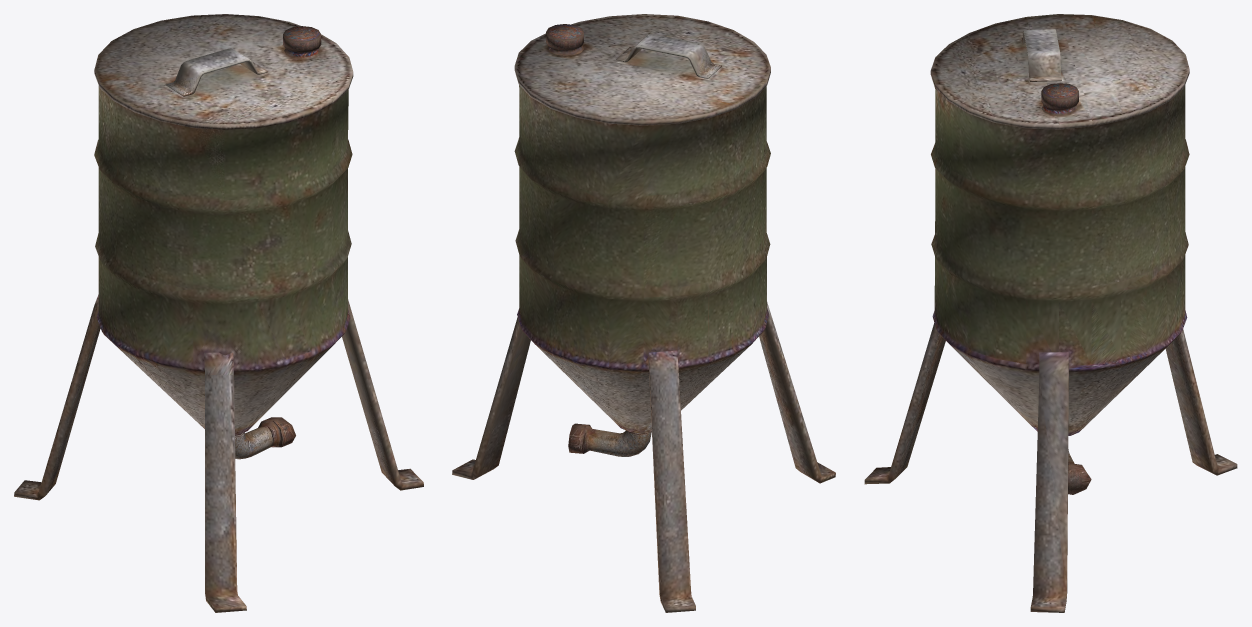
The model's file is tripo_convert_5ef5305a-ab51-4683-b265-a1bc2b4de111.fbx.
3 views of the same model, side by side, from view 1: azimuth 30°, elevation 25°; view 2: azimuth 150°, elevation 25°; view 3: azimuth 270°, elevation 25° (orthographic).
Parts seen in each view (by area): view 1: tripo_node_5ef5305a; view 2: tripo_node_5ef5305a; view 3: tripo_node_5ef5305a.
Part boxes in pixels (bbox=[...]): tripo_node_5ef5305a: bbox=[14, 14, 423, 612]; tripo_node_5ef5305a: bbox=[452, 14, 835, 612]; tripo_node_5ef5305a: bbox=[864, 14, 1237, 612].
Bounding box in the file's own units: 0.7085 × 0.9995 × 0.7144.
